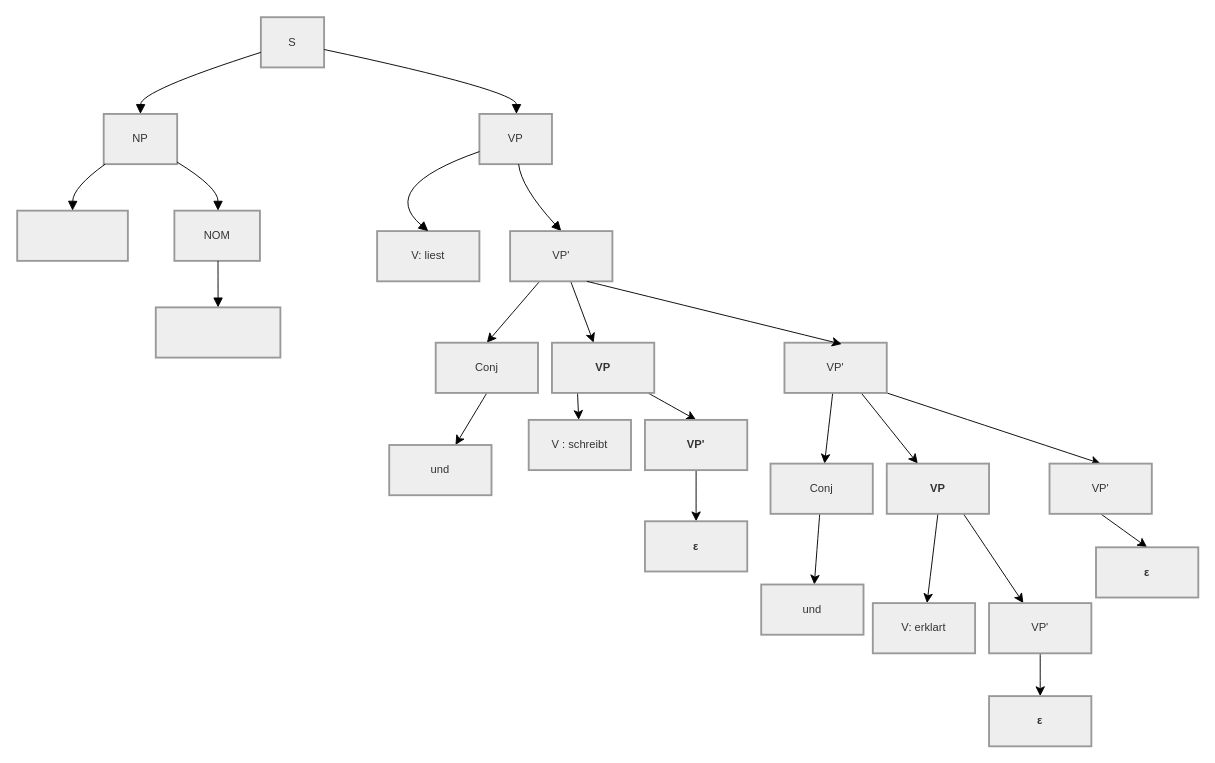
The diagram is 1215 pixels wide and 763 high, and some of its shapes have lost their labels. Here are the shapes that lost their labels. From the top down, the centre of each, then its label:
At (72,235): "Det: der".
At (217,332): "N: Schüler".
